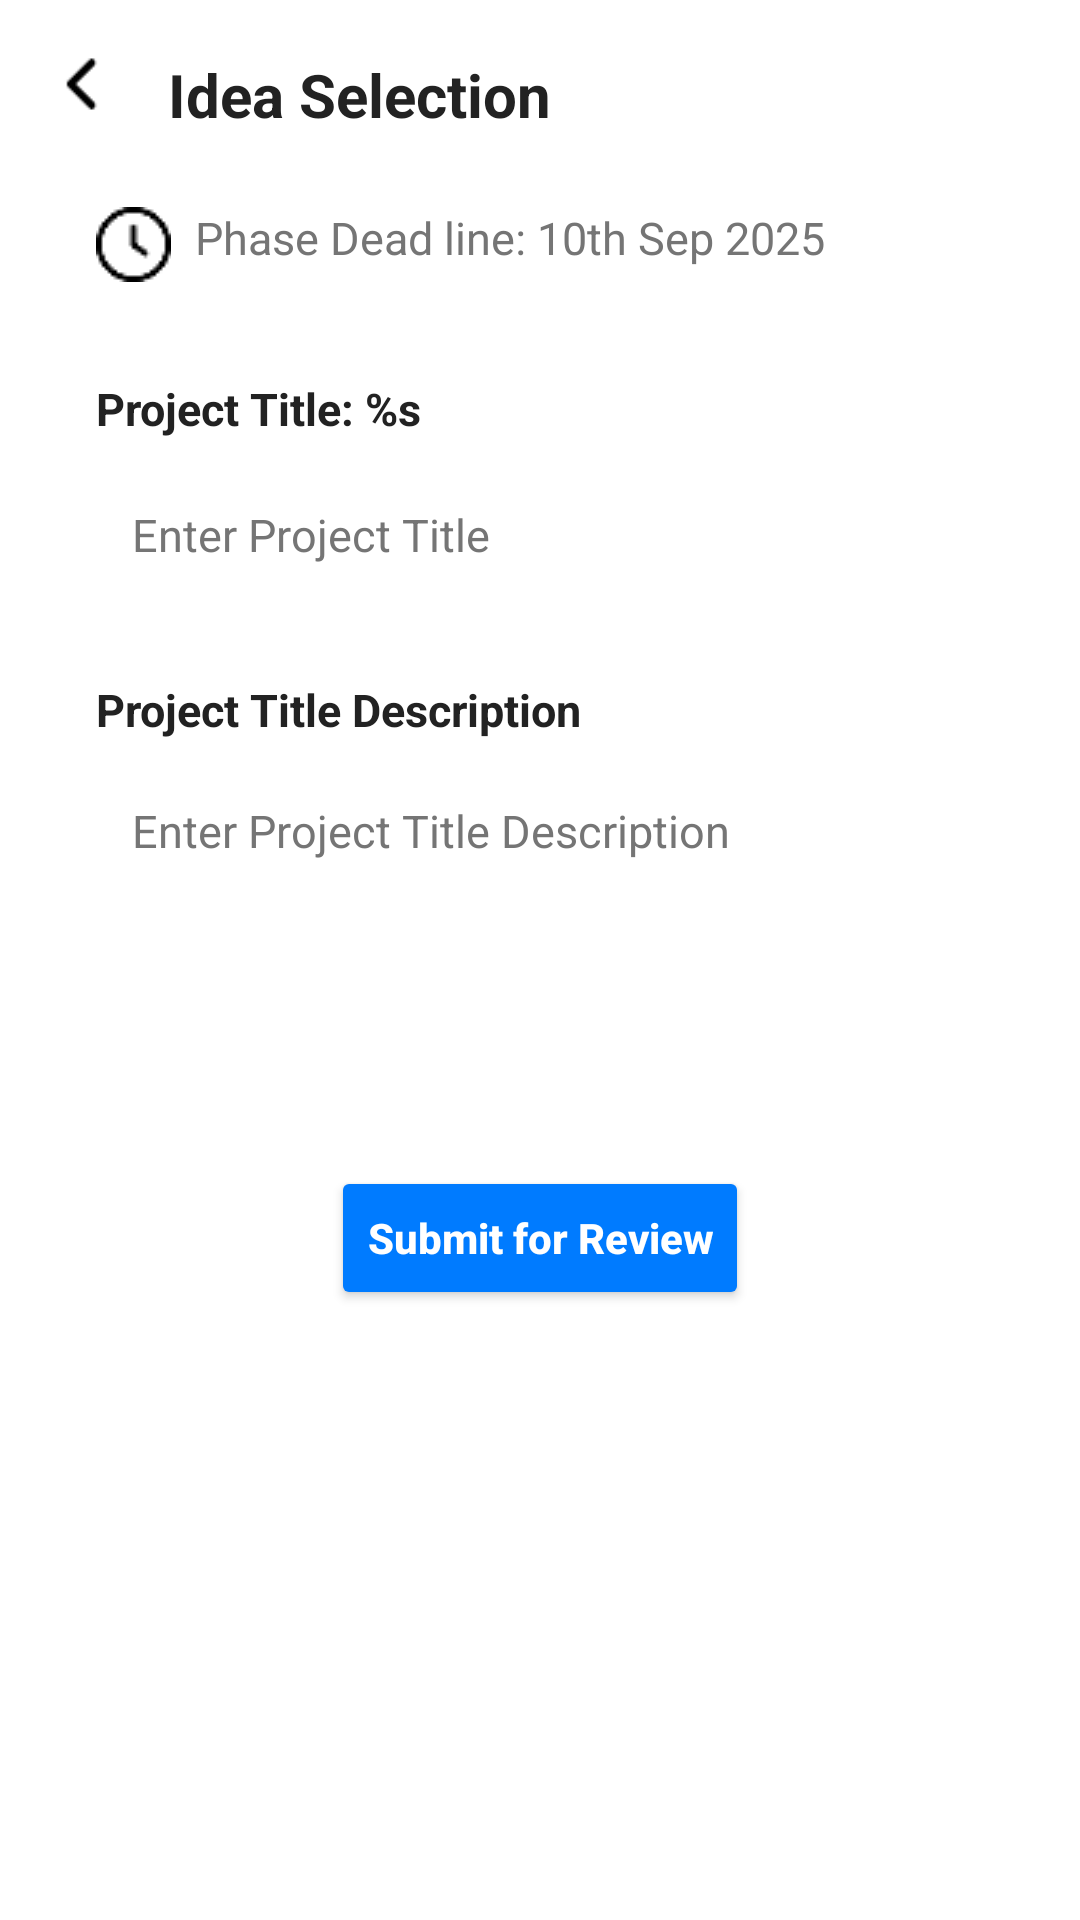

Named icons in this screenshot (1080 × 1920) and their bounding boxes, (x1, y1, x2, y2):
Back arrow: (66, 58, 97, 110)
